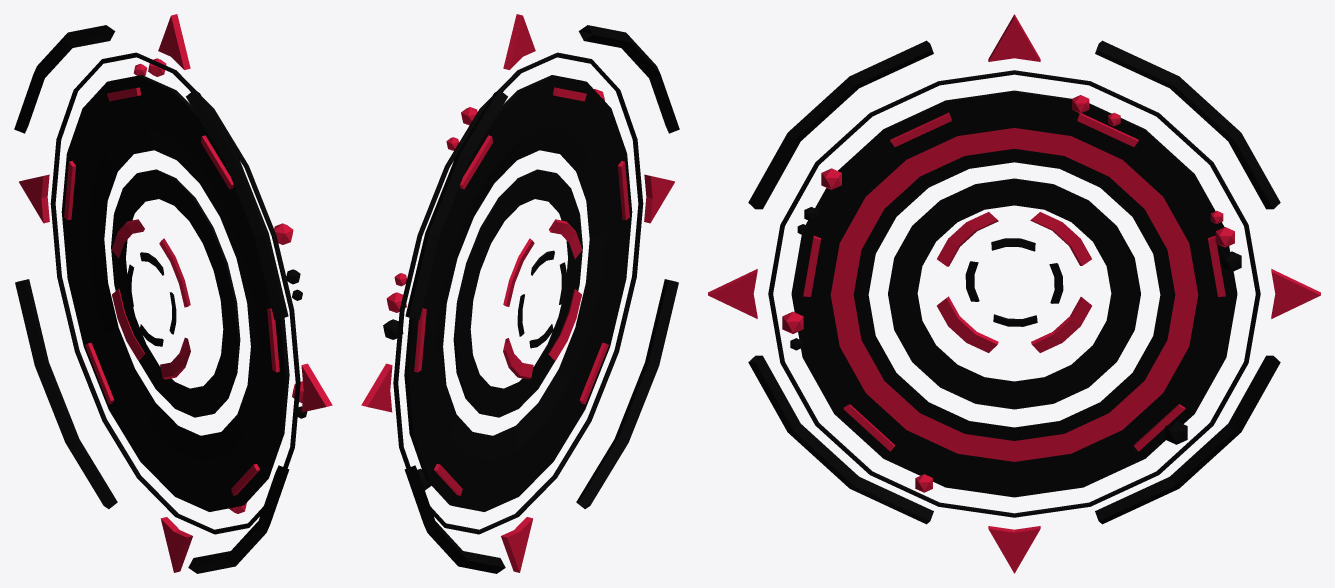
File: siro_wing.fbx
The picture shows the model from 3 angles, left to right: view 1: azimuth 30°, elevation 25°; view 2: azimuth 150°, elevation 25°; view 3: azimuth 270°, elevation 25°; orthographic projection.
Parts seen in each view (by area): view 1: 2Siro_sub_ring1_2; view 2: 2Siro_sub_ring1_2; view 3: 2Siro_sub_ring1_2.
Boxes of the visible parts, x1,y1,x2,y2 form: 2Siro_sub_ring1_2: (14,14,332,573); 2Siro_sub_ring1_2: (361,14,679,573); 2Siro_sub_ring1_2: (708,14,1320,573).
Size of the model in its own units: 13.34 by 120 by 120.
